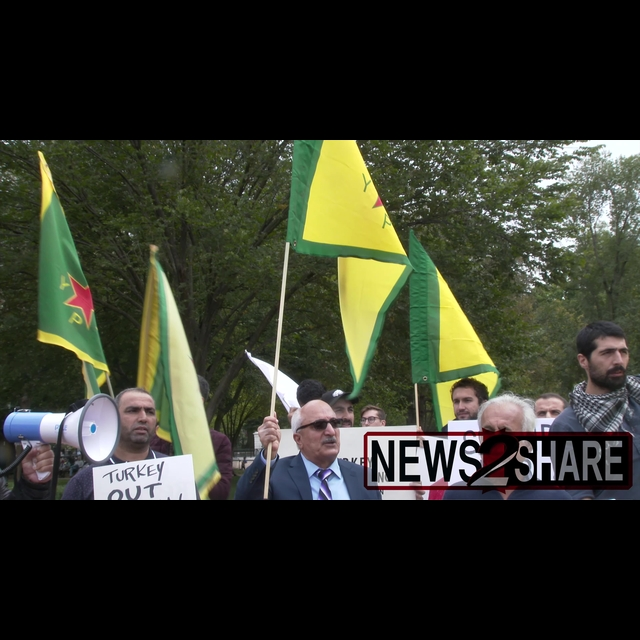YPJ: (54, 263, 100, 333)
